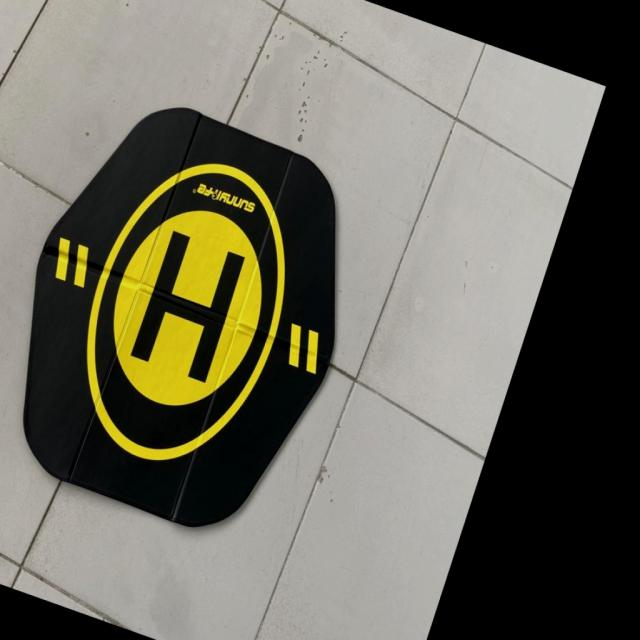helipad: (83, 152, 284, 466)
